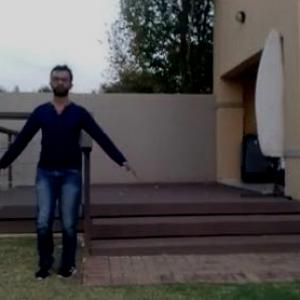land: (0, 63, 143, 288)
